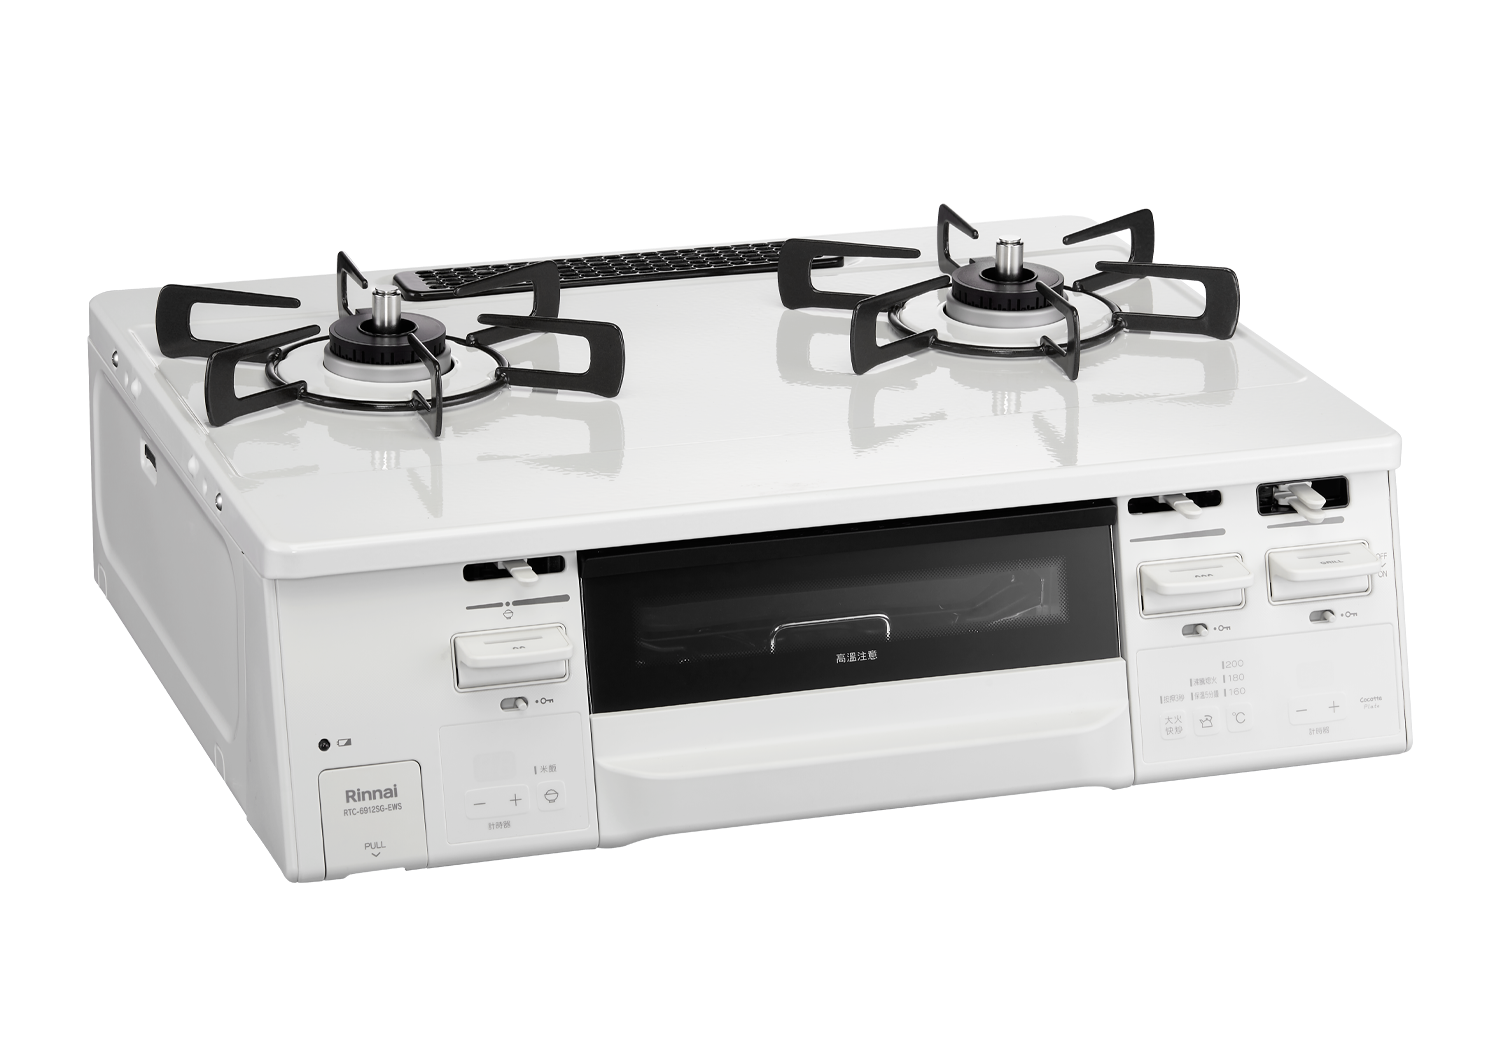gasoven: (68, 198, 1422, 894)
